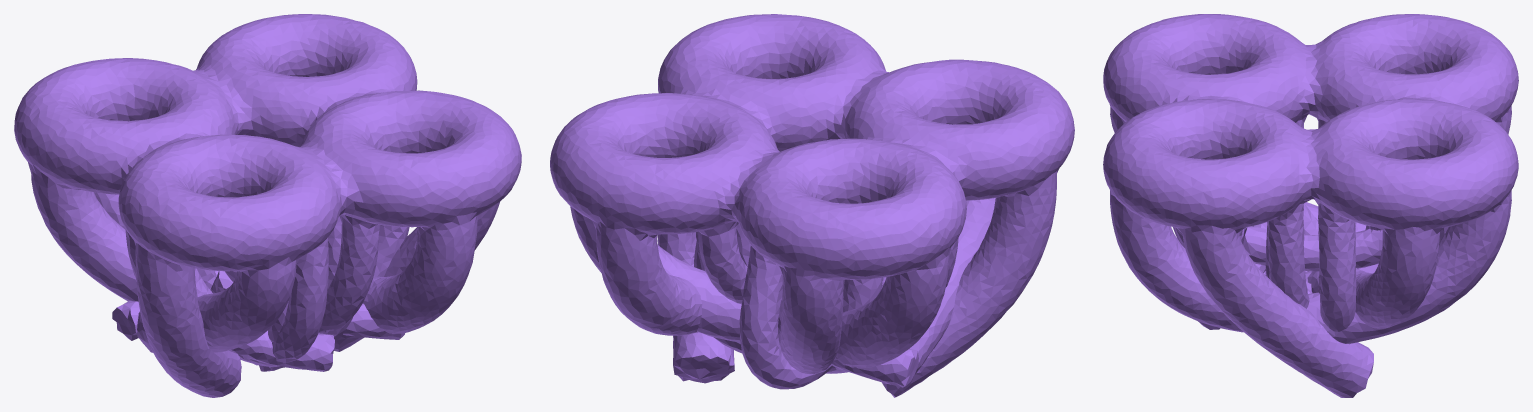
Rendered from quintupleTorus.obj.
The picture shows the model from 3 angles, left to right: view 1: azimuth 30°, elevation 25°; view 2: azimuth 150°, elevation 25°; view 3: azimuth 270°, elevation 25°; orthographic projection. The views are drawn at different scales.
Parts seen in each view (by area): view 1: group00000; view 2: group00000; view 3: group00000.
Part boxes in pixels (bbox=[...]): group00000: bbox=[14, 14, 521, 397]; group00000: bbox=[550, 14, 1074, 397]; group00000: bbox=[1103, 14, 1518, 397].
Size of the model in its own units: 5.78 by 4.04 by 5.79.
